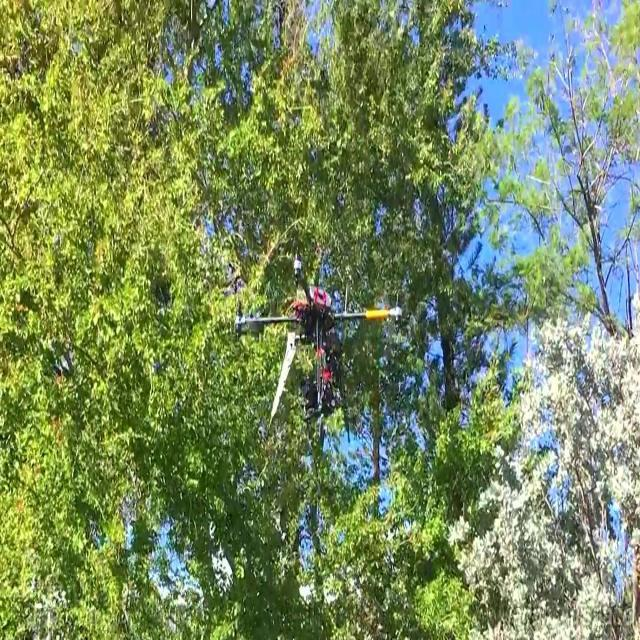UAV: (235, 258, 402, 442)
